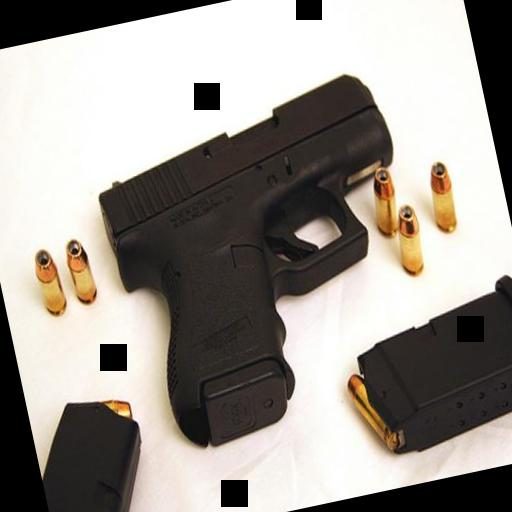Handgun: (78, 59, 438, 461)
